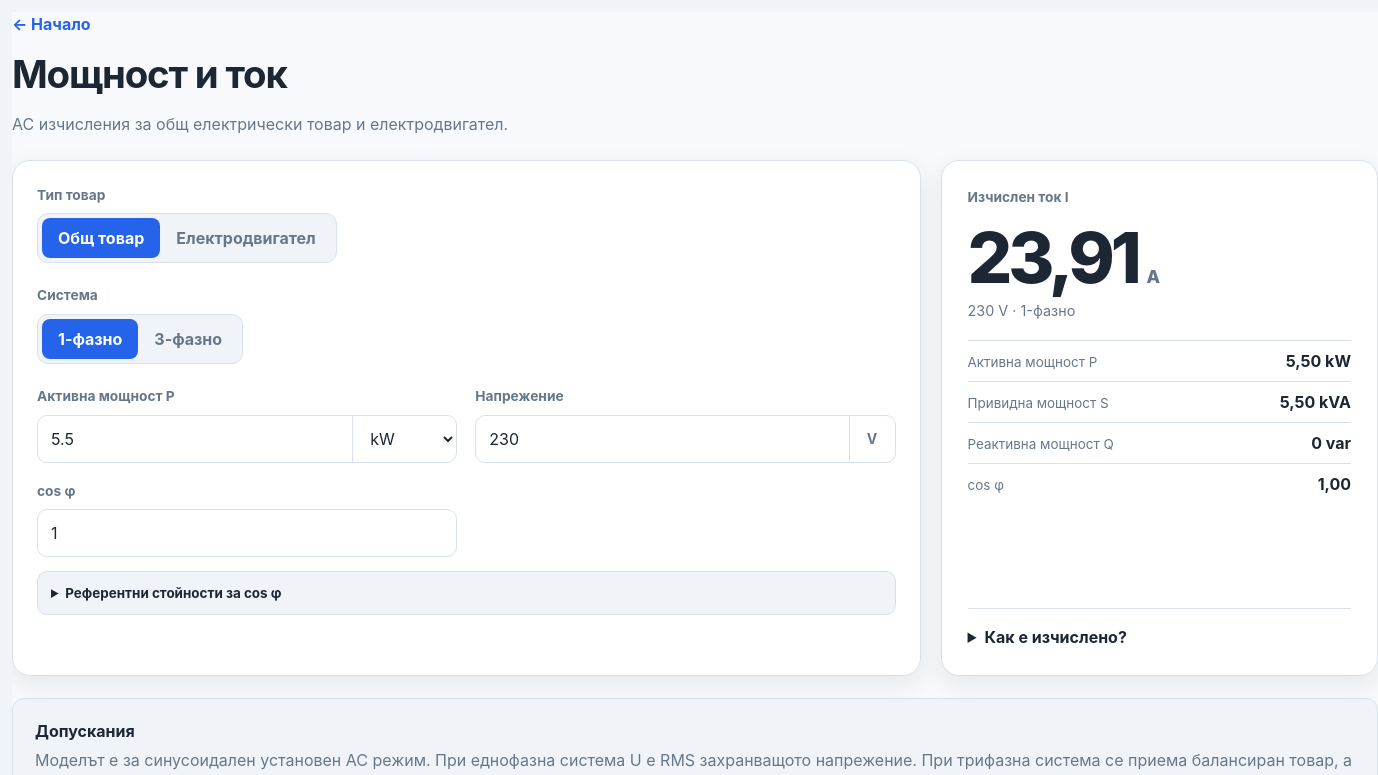
Scenario: PowerCurrentCalculator › clears all dependent motor output when efficiency is invalid
Click the button "Електродвигател" at {"x": 246, "y": 238}, box [160, 218, 332, 258]
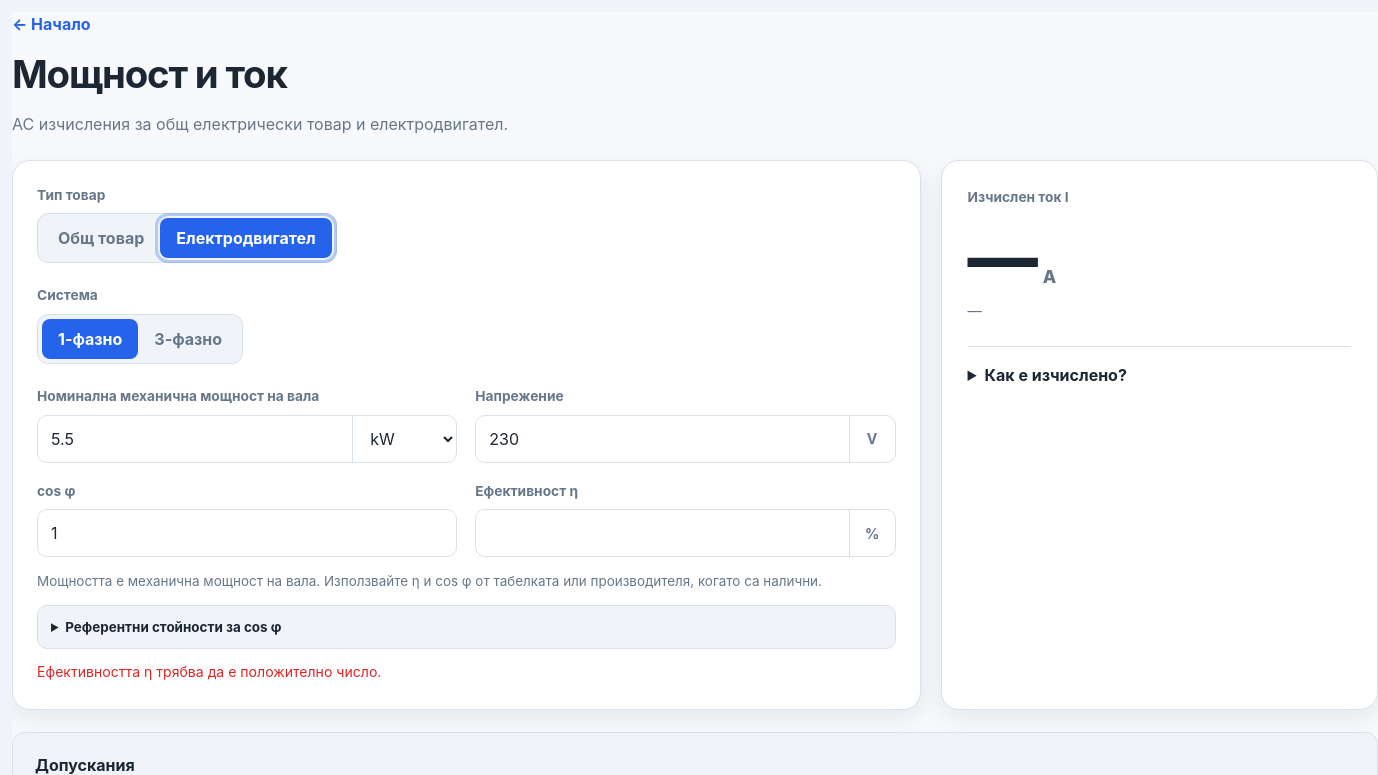
Type "90" into the field labelled "Ефективност η %" at {"x": 662, "y": 533}, box [476, 510, 849, 556]
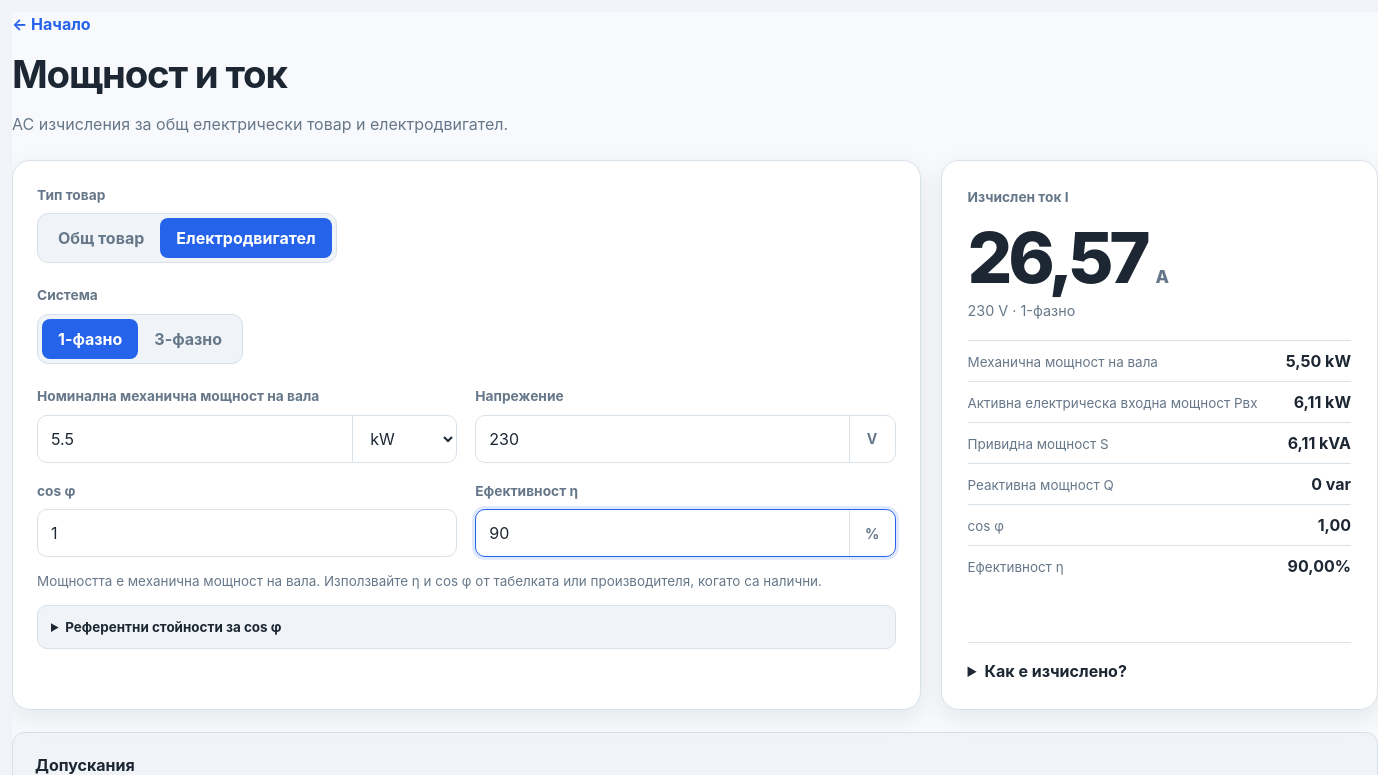
Expected: the text "—" is gone
Clear the field labelled "Ефективност η %" at {"x": 662, "y": 533}, box [476, 510, 849, 556]
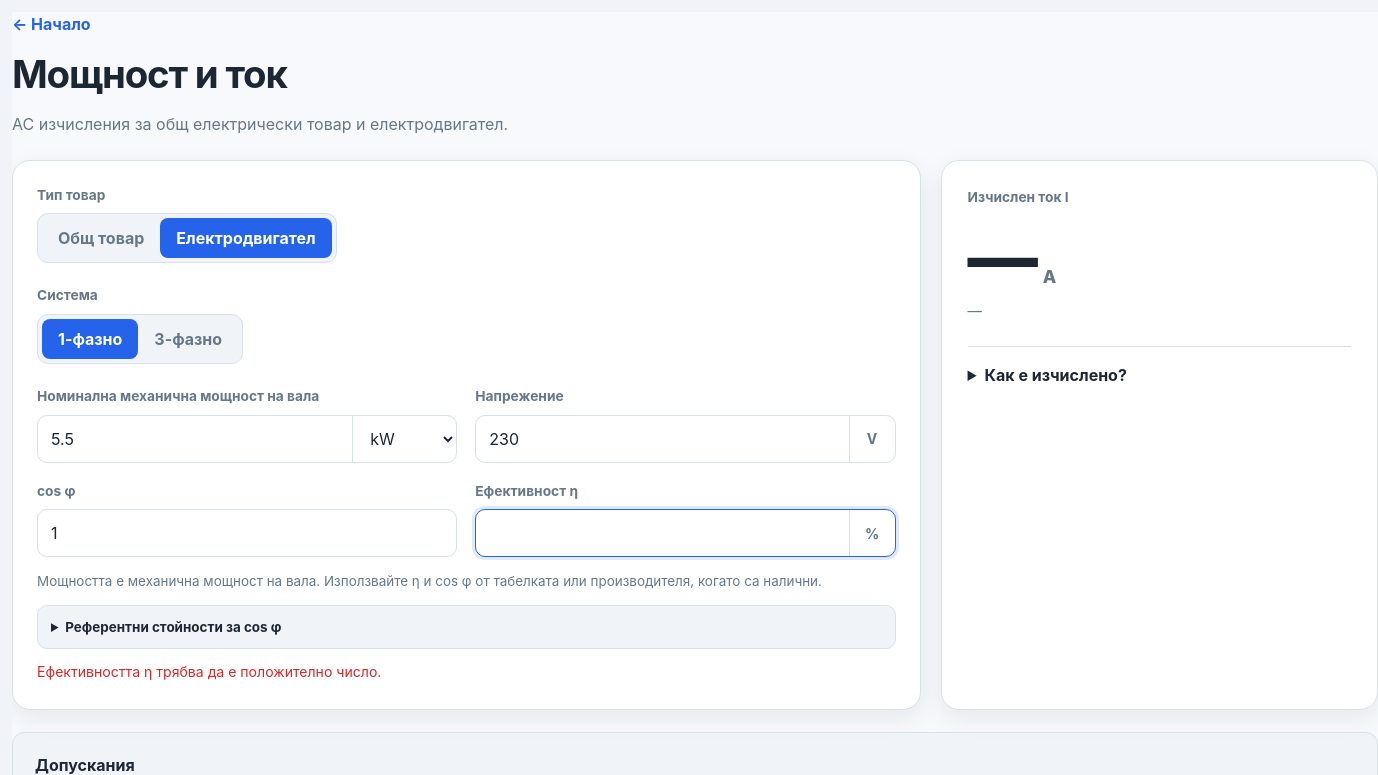
Expected: the 1st text "—" is shown, [968, 225, 1034, 292]
Expected: the element with class "result-values" is gone
Expected: the text "Ефективността η трябва да е положително число." is shown, [37, 664, 381, 680]
Type "101" into the field labelled "Ефективност η %" at {"x": 662, "y": 533}, box [476, 510, 849, 556]
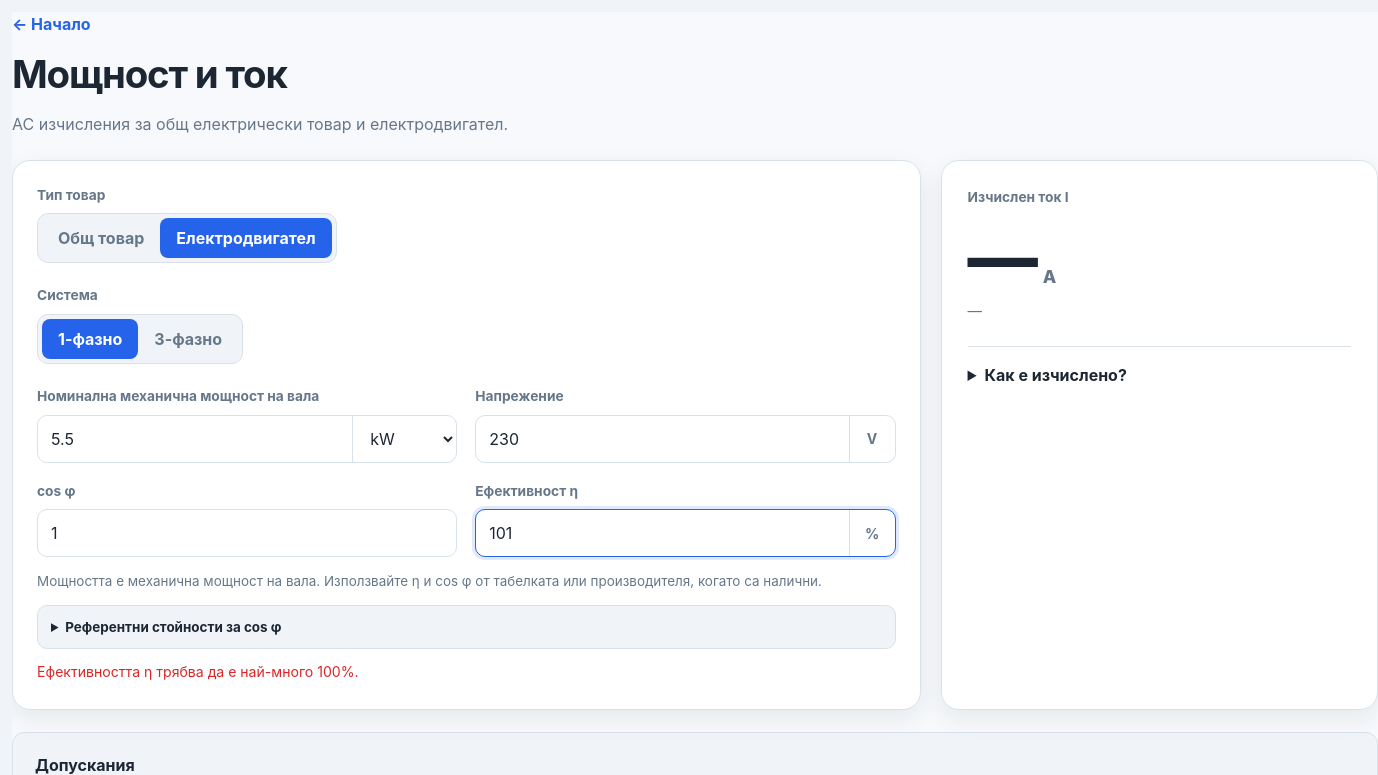
Expected: the text "Ефективността η трябва да е най-много 100%." is shown, [37, 664, 359, 680]
